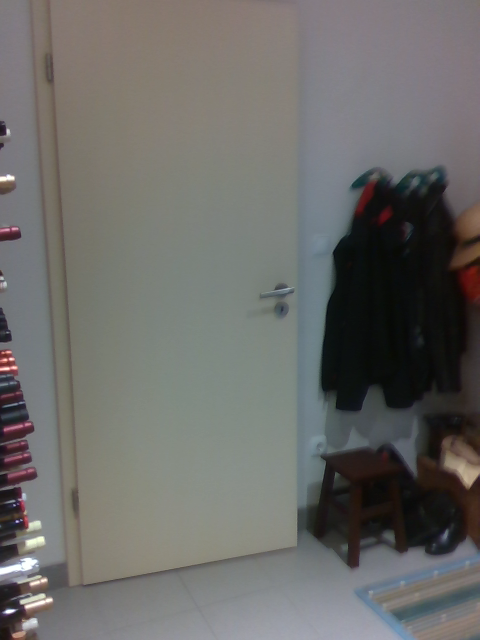closed: (32, 0, 297, 593)
